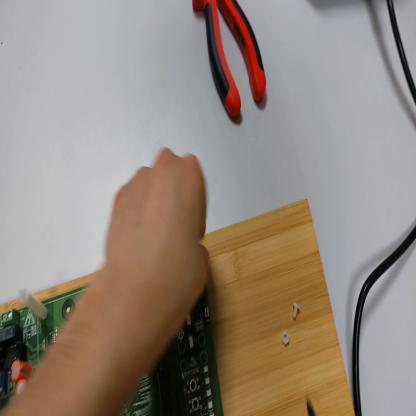hand: (101, 151, 210, 359)
low voltage board: (1, 276, 223, 416)
pliers: (193, 1, 268, 123)
working area: (2, 201, 354, 416)
